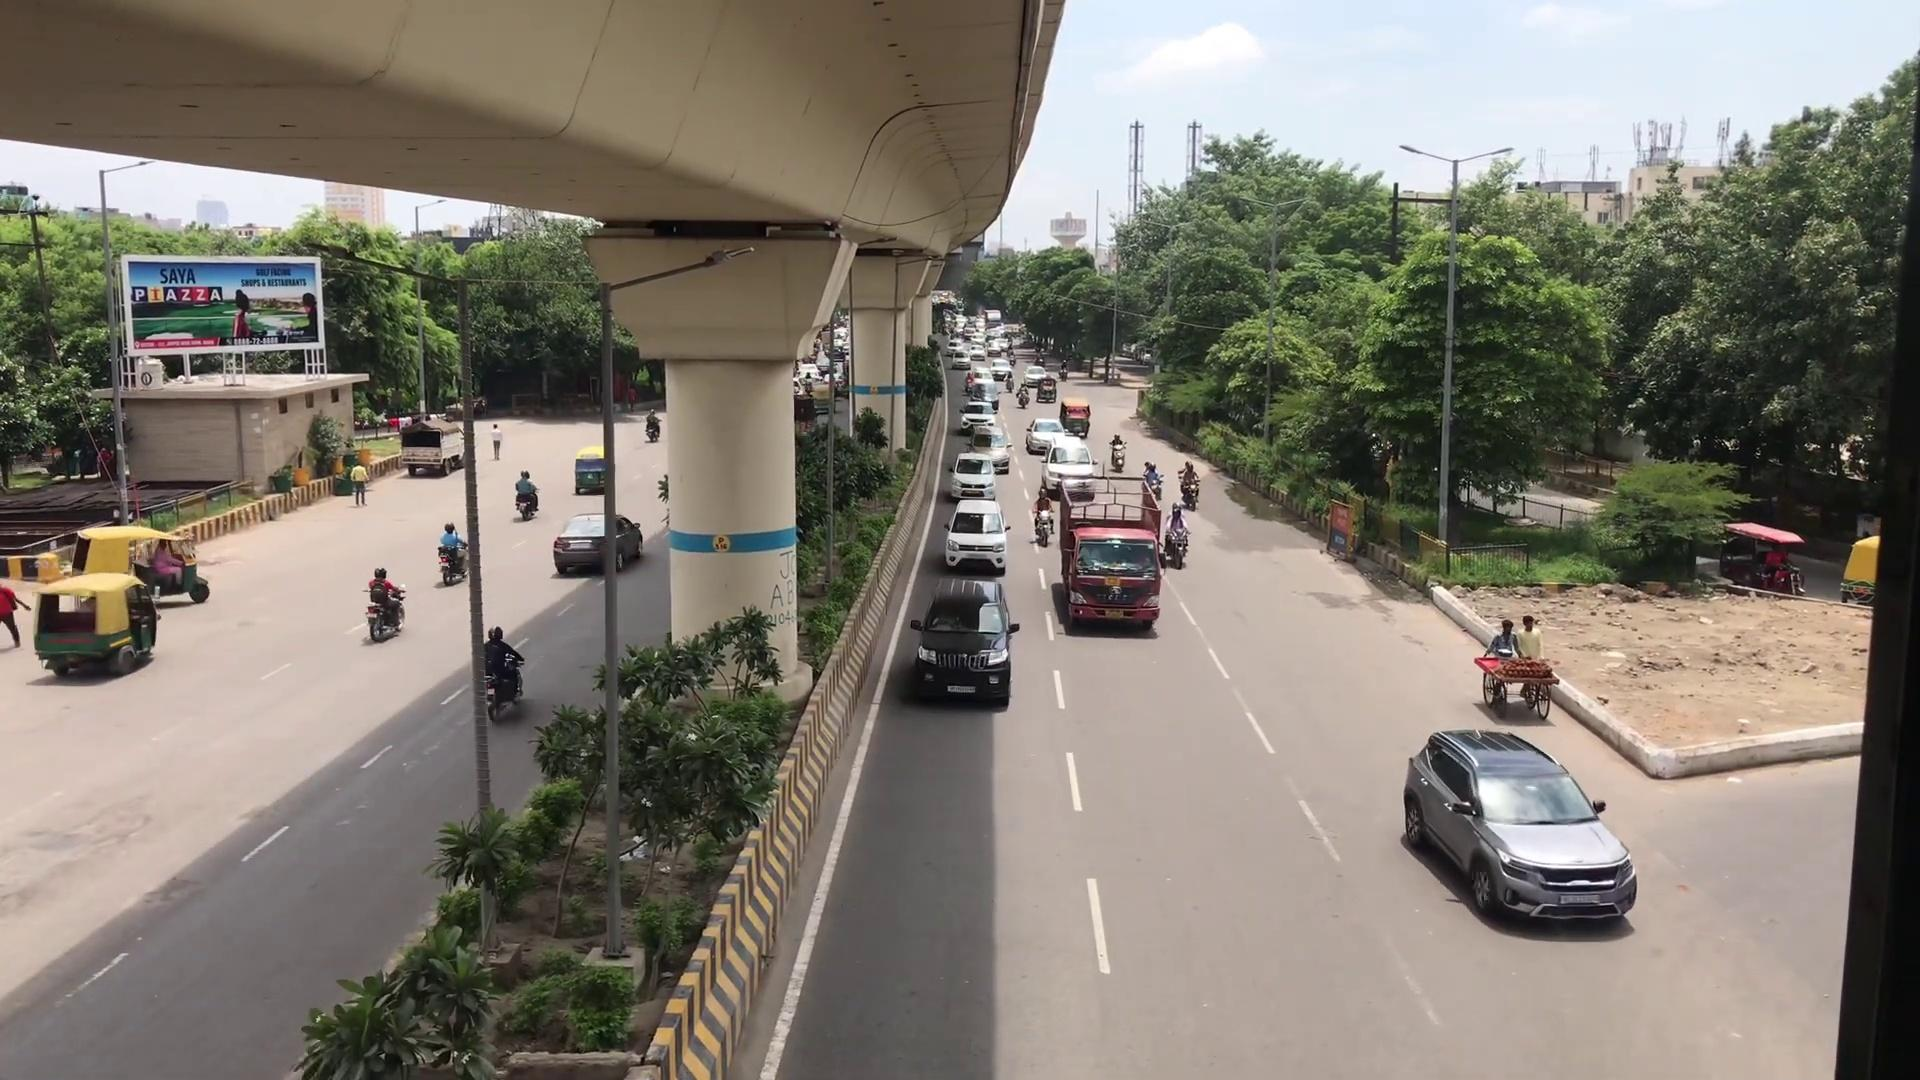Auto: (33, 568, 164, 678)
Bike: (473, 618, 525, 720), (364, 560, 406, 645), (516, 463, 539, 521)
Car: (1403, 720, 1638, 926), (910, 575, 1014, 704)
Truck: (1058, 475, 1160, 634)
